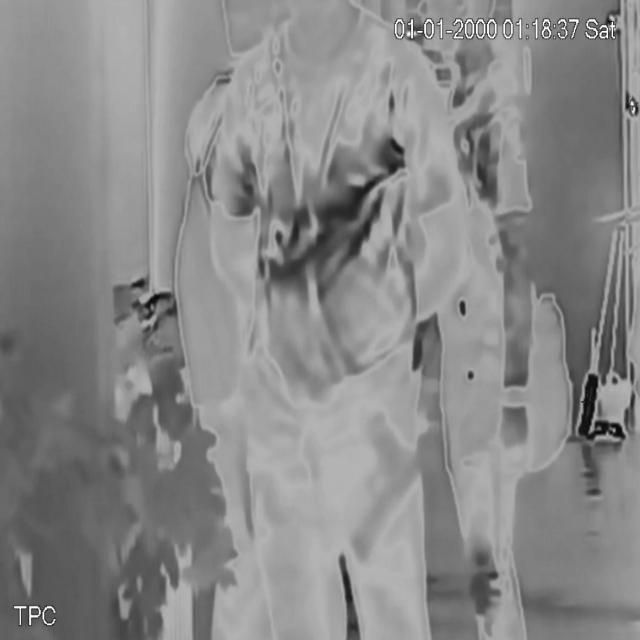Weapon: (330, 402, 442, 565)
